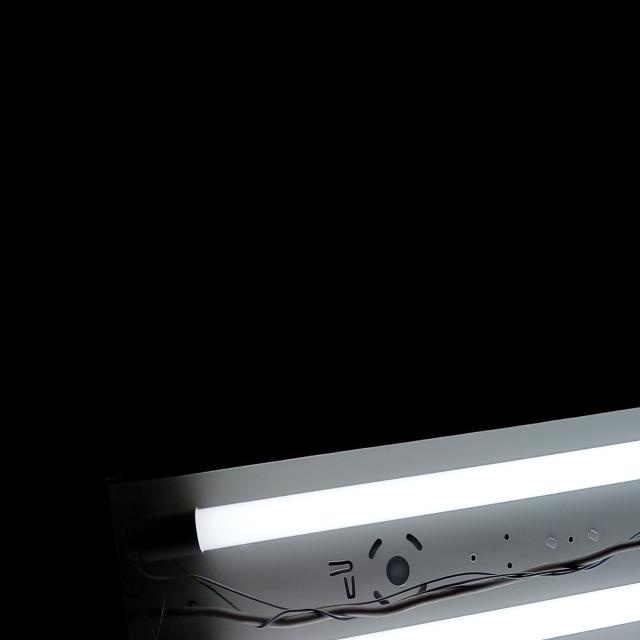fluorescent tube: (144, 283, 640, 640)
